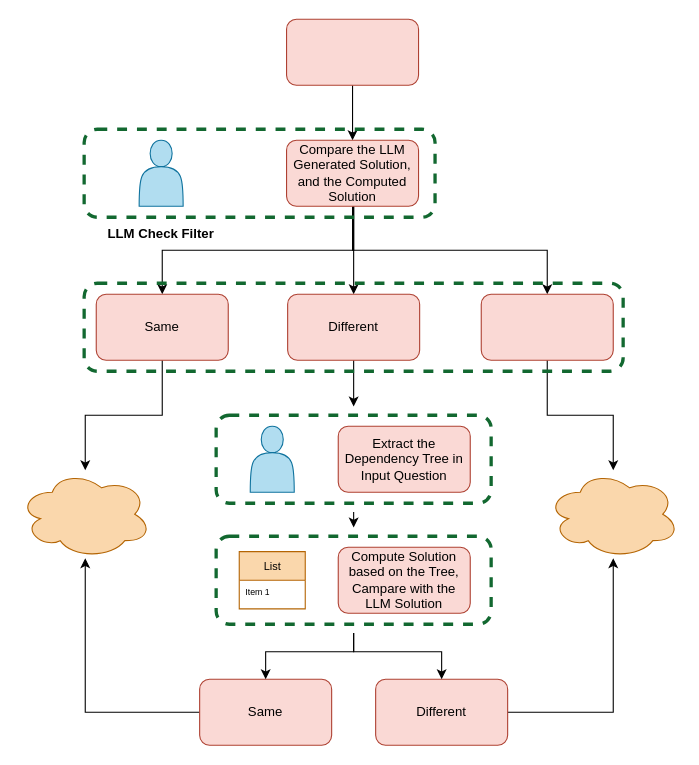
Image size: 699x765. Some labels were removed from this diagram. The box of each missing label's shape, as (x1, y1, x2, y2) in pixels:
Clean Data: (18, 469, 151, 558)
Dump: (546, 469, 679, 558)
Input the Generated Question: (285, 18, 419, 85)
Undefined: (480, 293, 613, 360)
